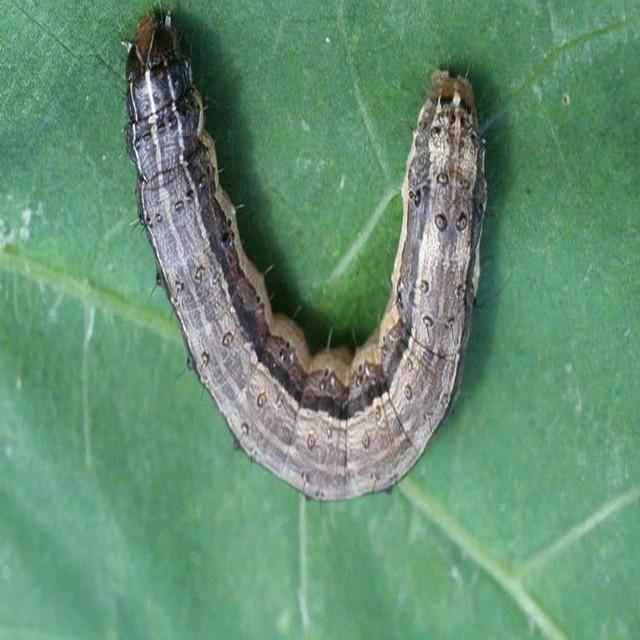yellow-stem-borer-larva: (112, 11, 525, 512)
